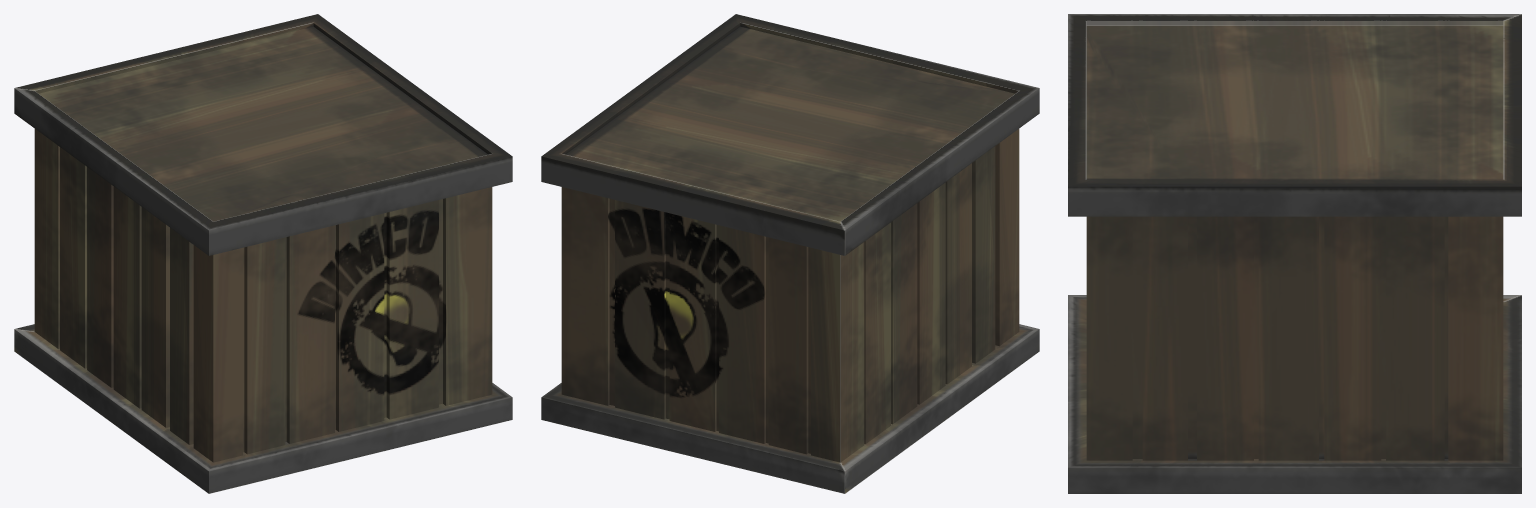
The model's file is Crate.fbx.
3 renders of one model, left to right at view 1: azimuth 30°, elevation 25°; view 2: azimuth 150°, elevation 25°; view 3: azimuth 270°, elevation 25°, orthographic. The views are drawn at different scales.
Visible parts, largest first — view 1: pCube2; view 2: pCube2; view 3: pCube2.
Boxes of the visible parts, x1,y1,x2,y2 form: pCube2: (14, 14, 512, 493); pCube2: (541, 14, 1039, 493); pCube2: (1068, 14, 1521, 493).
Size of the model in its own units: 24.58 by 20.37 by 27.29.
1 material, 1 textured.
